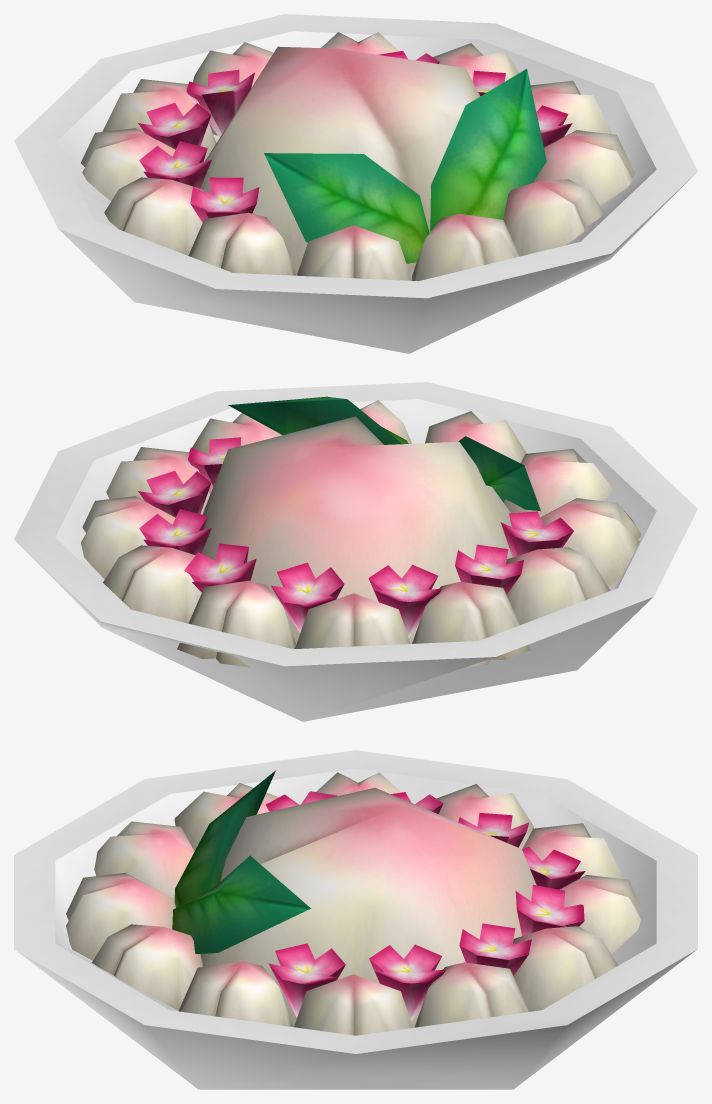
The model's file is momoman.fbx.
The picture shows the model from 3 angles, top to bottom: view 1: azimuth 30°, elevation 25°; view 2: azimuth 150°, elevation 25°; view 3: azimuth 270°, elevation 25°; orthographic projection. The views are drawn at different scales.
Visible parts, largest first — view 1: momoman; view 2: momoman; view 3: momoman.
Boxes of the visible parts, box(x1,y1,x2,y2) form: momoman: box(14, 14, 697, 353); momoman: box(14, 382, 697, 721); momoman: box(14, 750, 697, 1089).
Bounding box in the file's own units: 2.53 × 0.748 × 2.41.
Materials: 1 (1 with a texture image).
